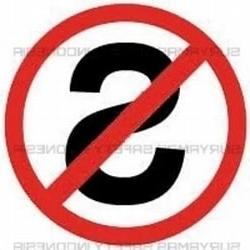Stop: (6, 4, 238, 235)
